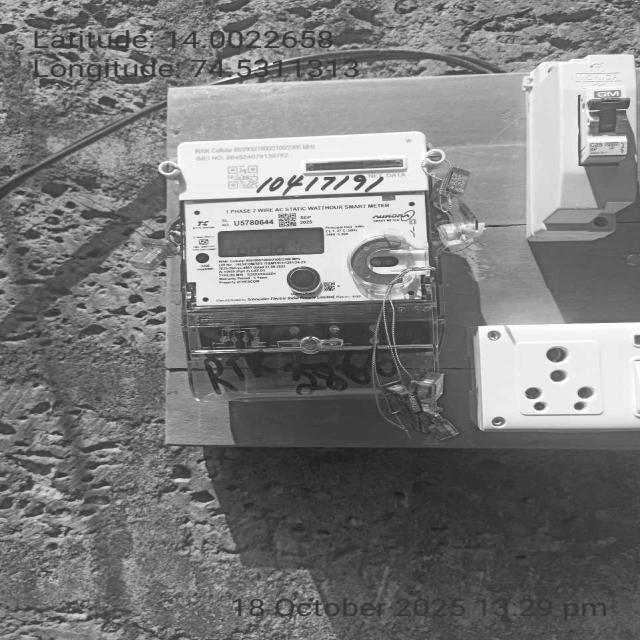meter: (173, 138, 429, 305)
